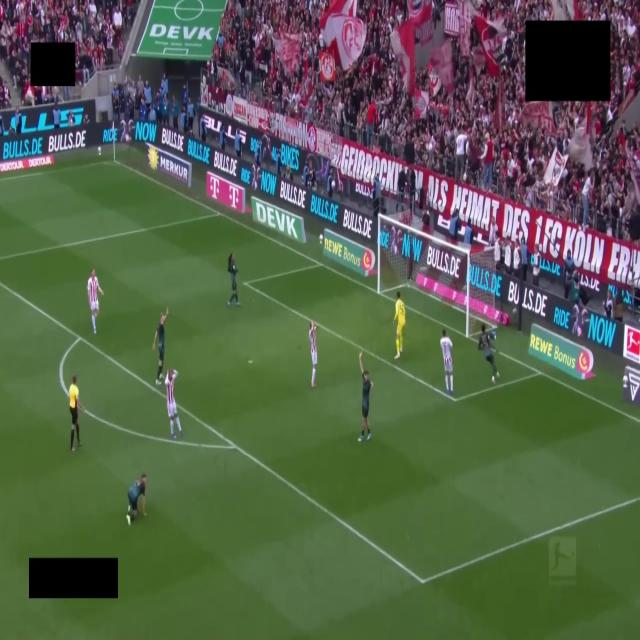player: (359, 353, 373, 441), (478, 325, 499, 383), (152, 308, 168, 384), (165, 370, 182, 439), (87, 269, 103, 334), (126, 474, 146, 525), (440, 329, 453, 394), (394, 292, 405, 359), (228, 253, 239, 306), (309, 321, 317, 387)
referee: (69, 376, 81, 451)
